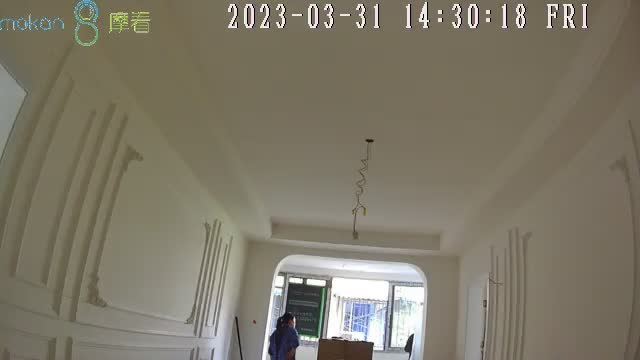people: (269, 310, 298, 360)
window: (276, 271, 422, 351)
